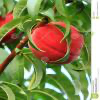Peach leaf: (54, 24, 73, 64), (25, 19, 44, 54), (0, 16, 27, 40), (26, 58, 43, 96), (9, 54, 25, 88), (54, 16, 72, 42)
